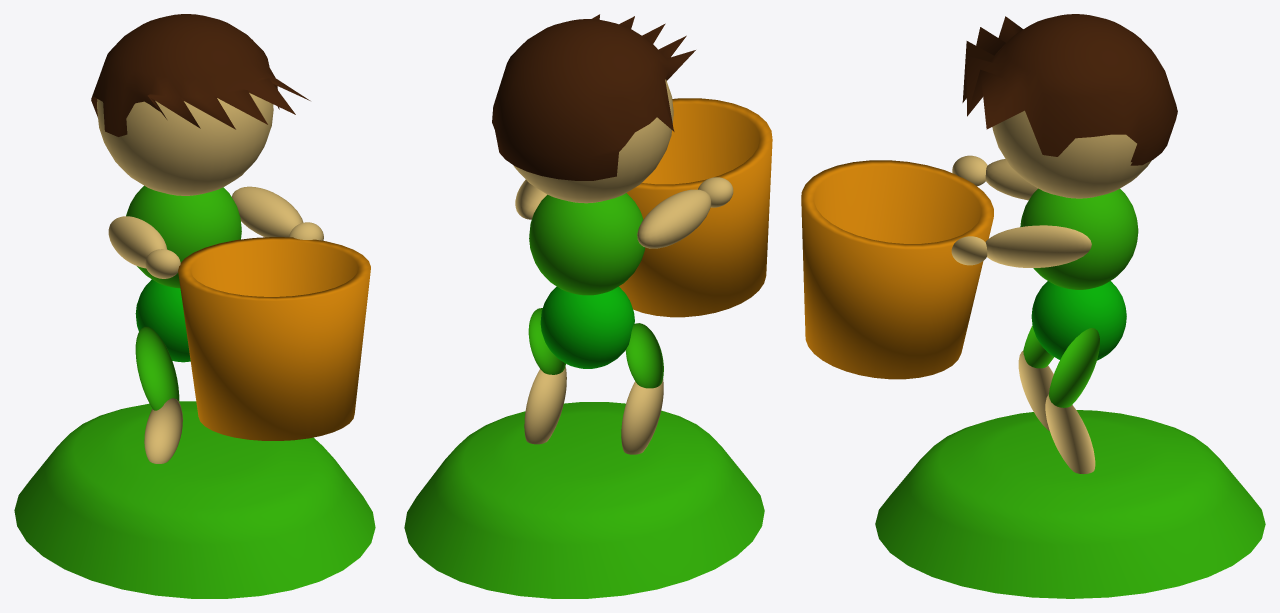
The model's file is BB_Tower_Green_Boy.fbx.
3 views of the same model, side by side, from view 1: azimuth 30°, elevation 25°; view 2: azimuth 150°, elevation 25°; view 3: azimuth 270°, elevation 25° (orthographic).
Visible parts, largest first — view 1: Circle, Circle_002, Sphere_009; view 2: Circle, Sphere_009, Circle_002; view 3: Circle, Sphere_009, Circle_002.
Part boxes in pixels (left/top/right/bottom): Circle: left=14, top=401, right=375, bottom=598; Circle_002: left=108, top=186, right=370, bottom=440; Sphere_009: left=91, top=14, right=310, bottom=463; Circle: left=404, top=402, right=764, bottom=598; Sphere_009: left=492, top=14, right=695, bottom=454; Circle_002: left=515, top=98, right=772, bottom=317; Circle: left=875, top=410, right=1265, bottom=598; Sphere_009: left=962, top=14, right=1177, bottom=474; Circle_002: left=801, top=155, right=1091, bottom=379.
Bounding box in the file's own units: 1.22 × 1.89 × 1.6.
